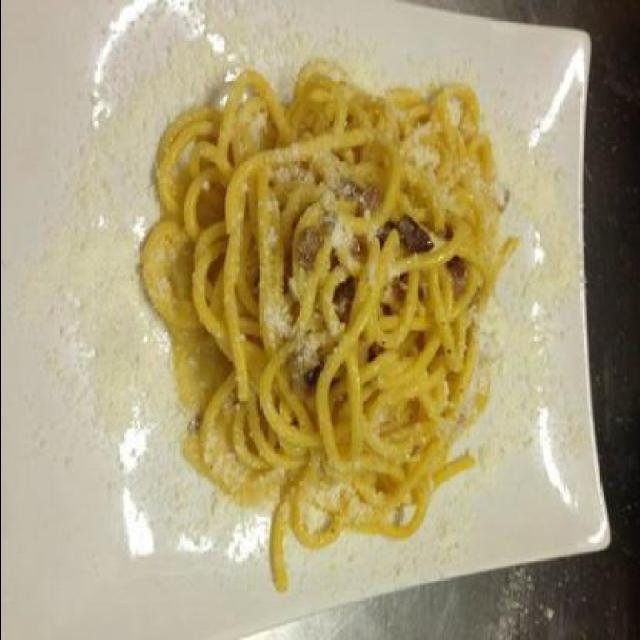Pasta with carbonara sauce: (112, 48, 556, 568)
